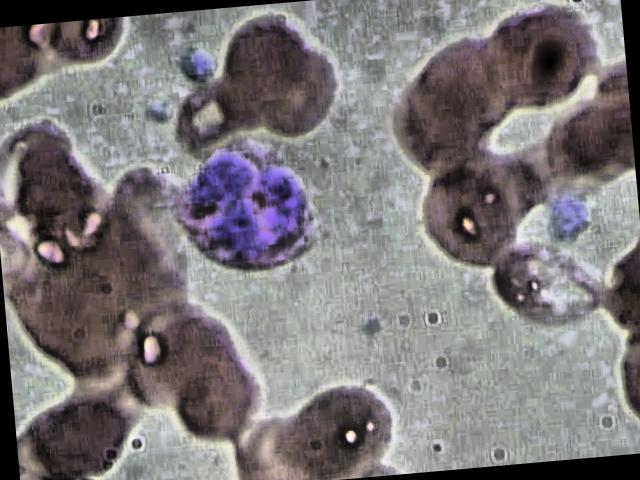Platelets: (541, 188, 601, 248), (175, 44, 222, 91), (136, 90, 180, 132)
RBC: (467, 0, 610, 123), (488, 229, 608, 348), (412, 154, 526, 274), (286, 376, 404, 480), (219, 6, 319, 111)
WBC: (158, 121, 342, 300)
